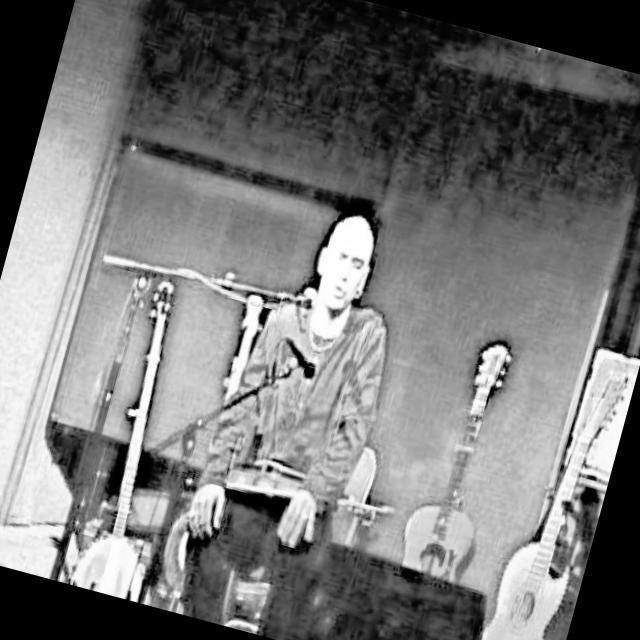Person: (164, 190, 429, 640)
